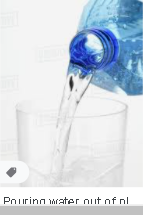Bottle: (68, 1, 143, 96)
